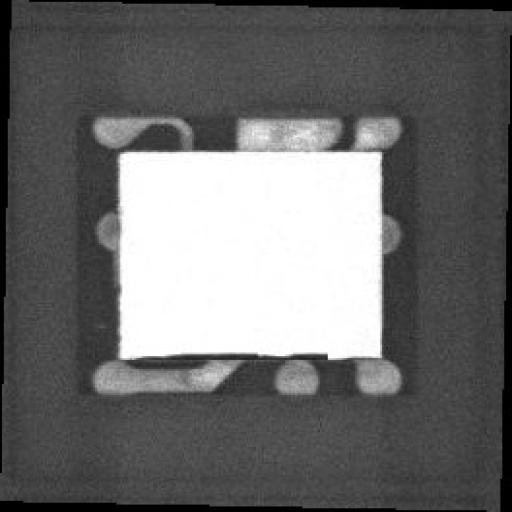DIE_BROKEN: (150, 345, 334, 362)
